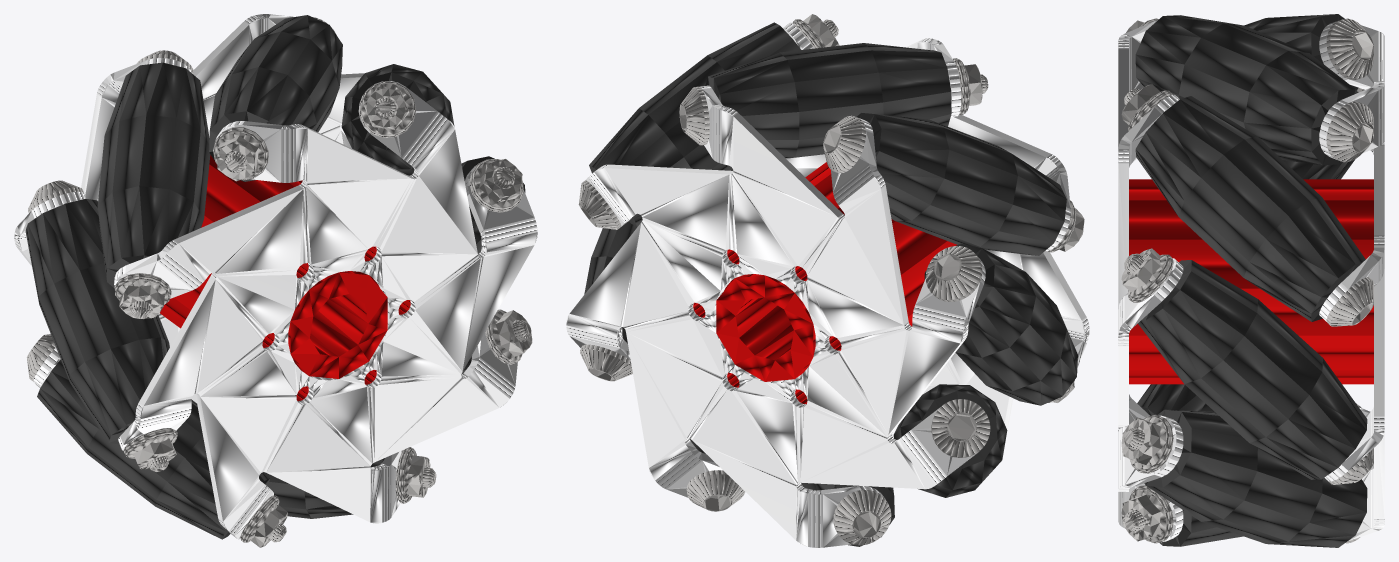
Rendered from mecanum_wheel_left.obj.
3 renders of one model, left to right at view 1: azimuth 30°, elevation 25°; view 2: azimuth 150°, elevation 25°; view 3: azimuth 270°, elevation 25°, orthographic. The views are drawn at different scales.
Visible parts, largest first — view 1: New_object; view 2: New_object; view 3: New_object.
Part boxes in pixels (box(x1,y1,x2,y2)): New_object: box(14, 14, 537, 547); New_object: box(566, 14, 1089, 547); New_object: box(1118, 14, 1384, 547).
Size of the model in its own units: 0.2066 by 0.2066 by 0.1028.
